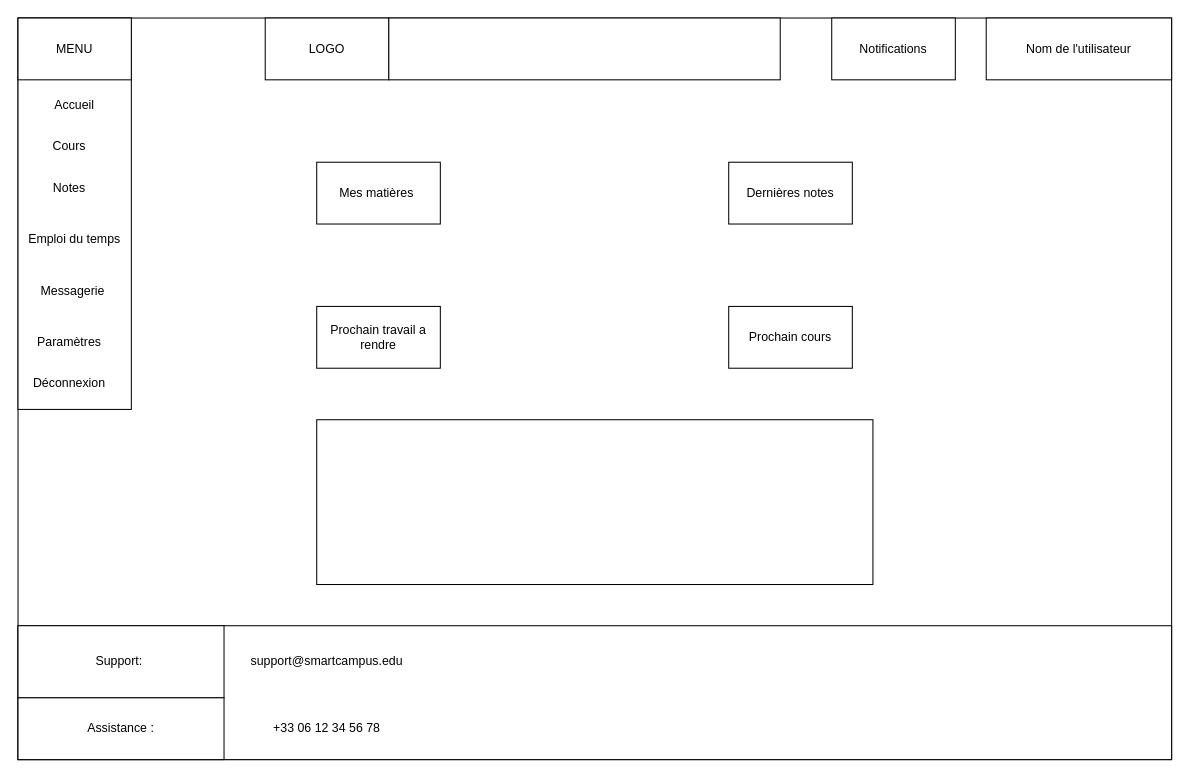
Some shapes in this 1190 by 778 pixel diagram are drawn without their labels. Each missing label, with the box of its shape:
Derniers messages: (316, 419, 873, 585)
Nom du site: (388, 17, 780, 80)
